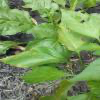Bell_pepper leaf spot: (0, 45, 66, 69), (55, 24, 86, 54), (36, 91, 71, 99), (56, 78, 74, 93)
